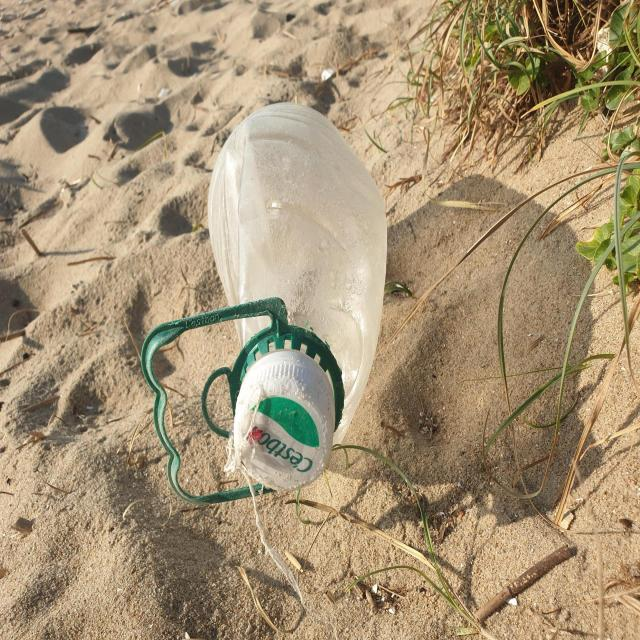plastic: (141, 102, 387, 506)
